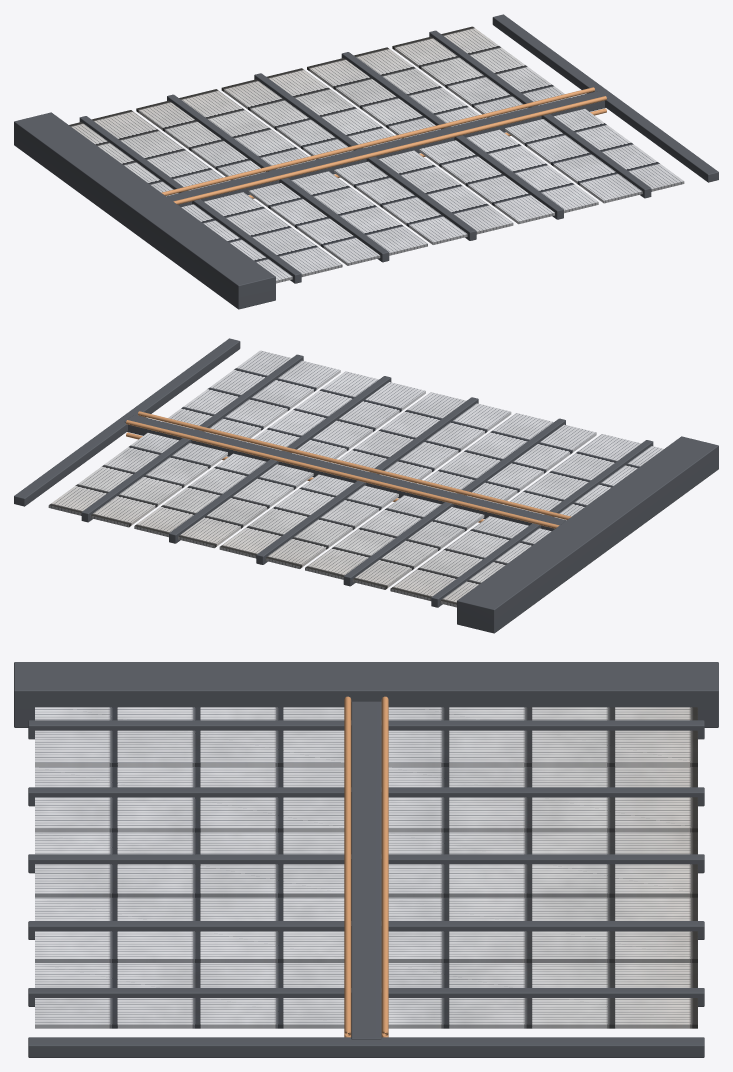
The model's file is mod_radiator_wing_large.glb.
The picture shows the model from 3 angles, top to bottom: view 1: azimuth 30°, elevation 25°; view 2: azimuth 150°, elevation 25°; view 3: azimuth 270°, elevation 25°; orthographic projection. The views are drawn at different scales.
Visible parts, largest first — view 1: Radiator_Large_Panels, Radiator_Large_Frame, Radiator_Large_Coolant; view 2: Radiator_Large_Panels, Radiator_Large_Frame, Radiator_Large_Coolant; view 3: Radiator_Large_Panels, Radiator_Large_Frame, Radiator_Large_Coolant.
Part boxes in pixels (x1,y1,x2,y2): Radiator_Large_Panels: [69, 26, 684, 283]; Radiator_Large_Frame: [14, 14, 718, 309]; Radiator_Large_Coolant: [161, 87, 606, 204]; Radiator_Large_Panels: [48, 350, 663, 607]; Radiator_Large_Frame: [14, 338, 718, 633]; Radiator_Large_Coolant: [126, 411, 571, 528]; Radiator_Large_Panels: [35, 707, 697, 1028]; Radiator_Large_Frame: [14, 662, 718, 1057]; Radiator_Large_Coolant: [344, 696, 388, 1037].
Size of the model in its own units: 12.22 by 0.58 by 9.8.
3 materials, 1 textured.
